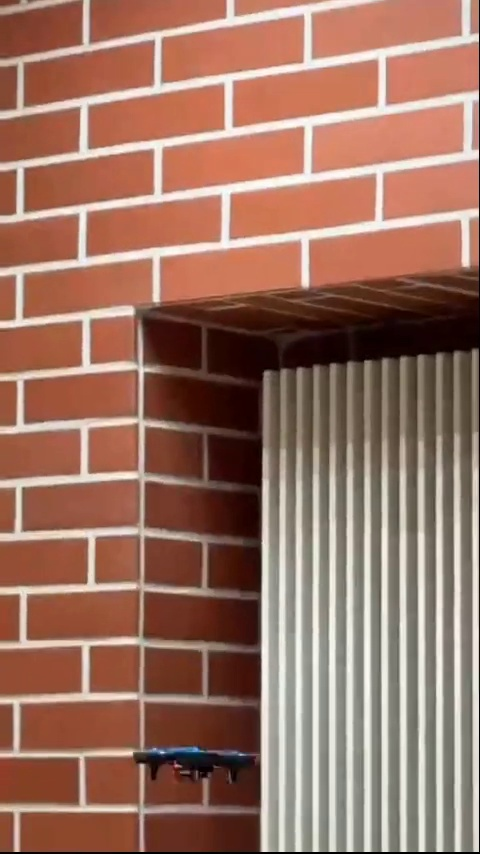drone: (121, 747, 270, 787)
